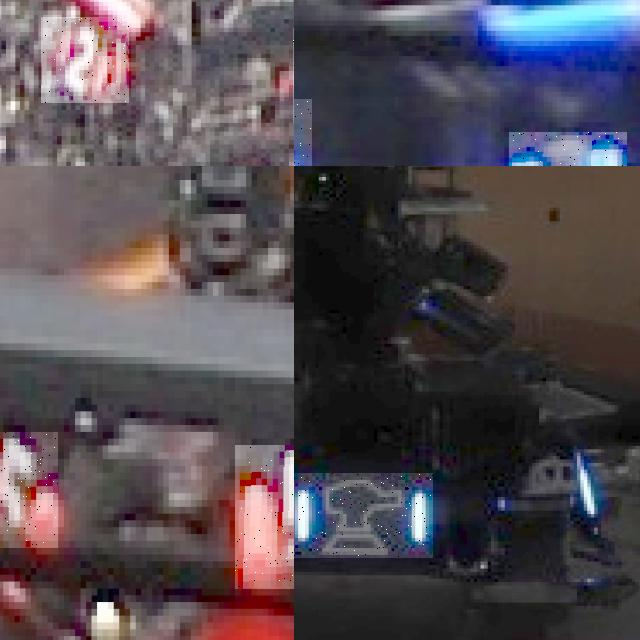B2: (508, 132, 627, 166)
Bs: (294, 473, 432, 558)
R2: (41, 17, 129, 103)
R5: (235, 445, 294, 588), (0, 432, 58, 547)
